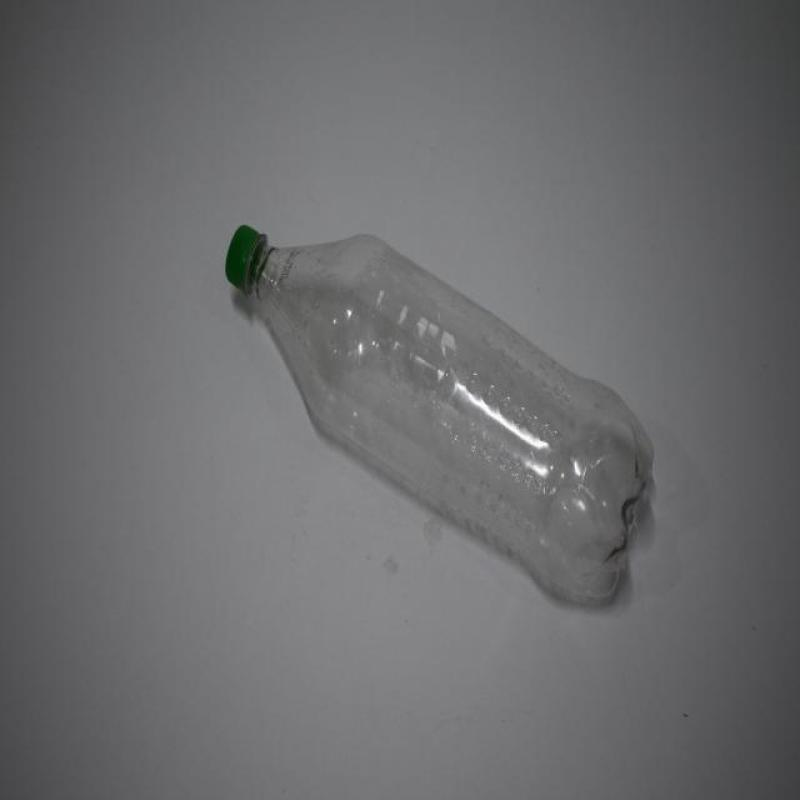botella: (224, 222, 654, 607)
